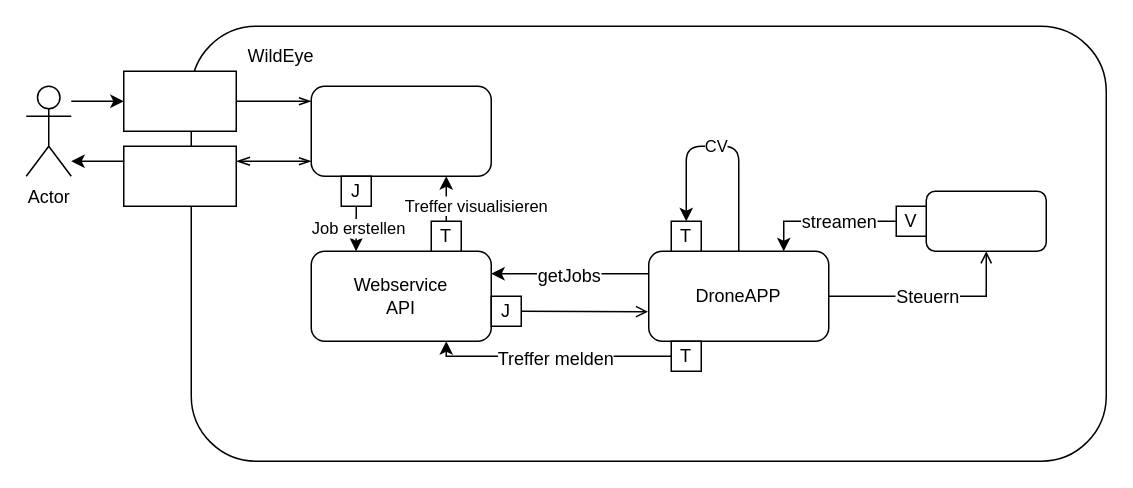
This 1133x488 diagram has some shape labels left out. Each missing label, with the centre of its shape:
"Drone" belongs at [985,220].
"FeldData" belongs at [179,100].
"FrontEnd Webservice" belongs at [400,130].
"Treffer" belongs at [179,175].
